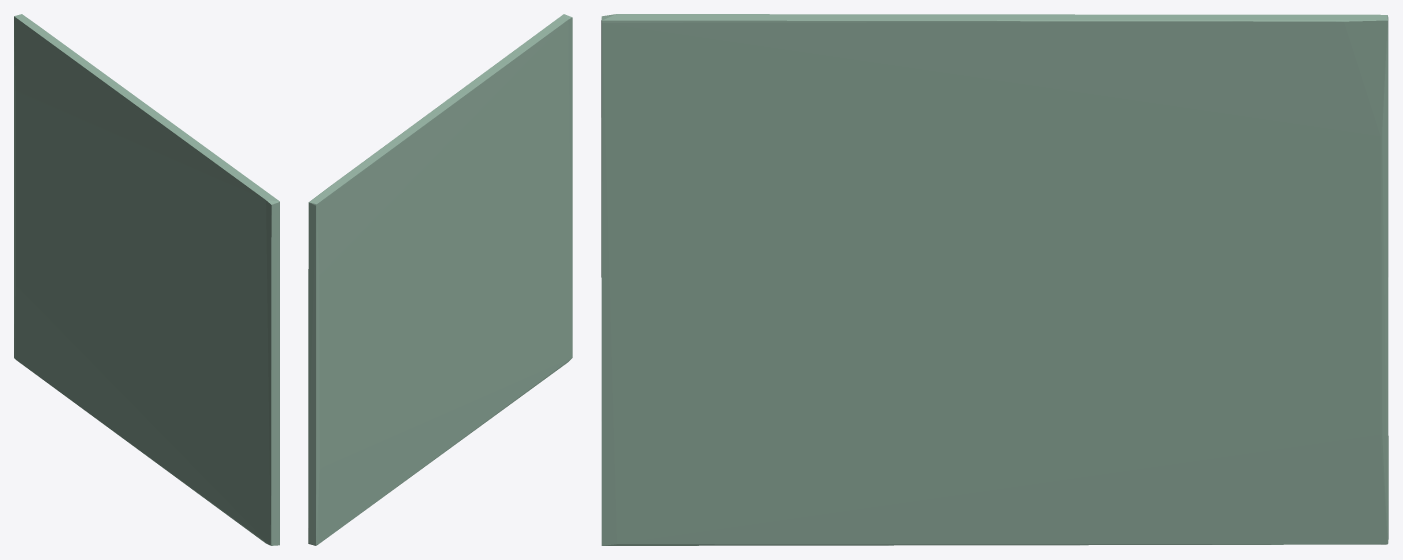
The model's file is blinds_window_2m_open_a01.glb.
3 views of the same model, side by side, from view 1: azimuth 30°, elevation 25°; view 2: azimuth 150°, elevation 25°; view 3: azimuth 270°, elevation 25° (orthographic). The views are drawn at different scales.
Visible parts, largest first — view 1: geometry_0; view 2: geometry_0; view 3: geometry_0.
Part boxes in pixels (bbox=[...]): geometry_0: bbox=[14, 14, 279, 545]; geometry_0: bbox=[308, 14, 572, 545]; geometry_0: bbox=[601, 14, 1388, 545].
Size of the model in its own units: 0.0105 by 0.3537 by 0.48.
